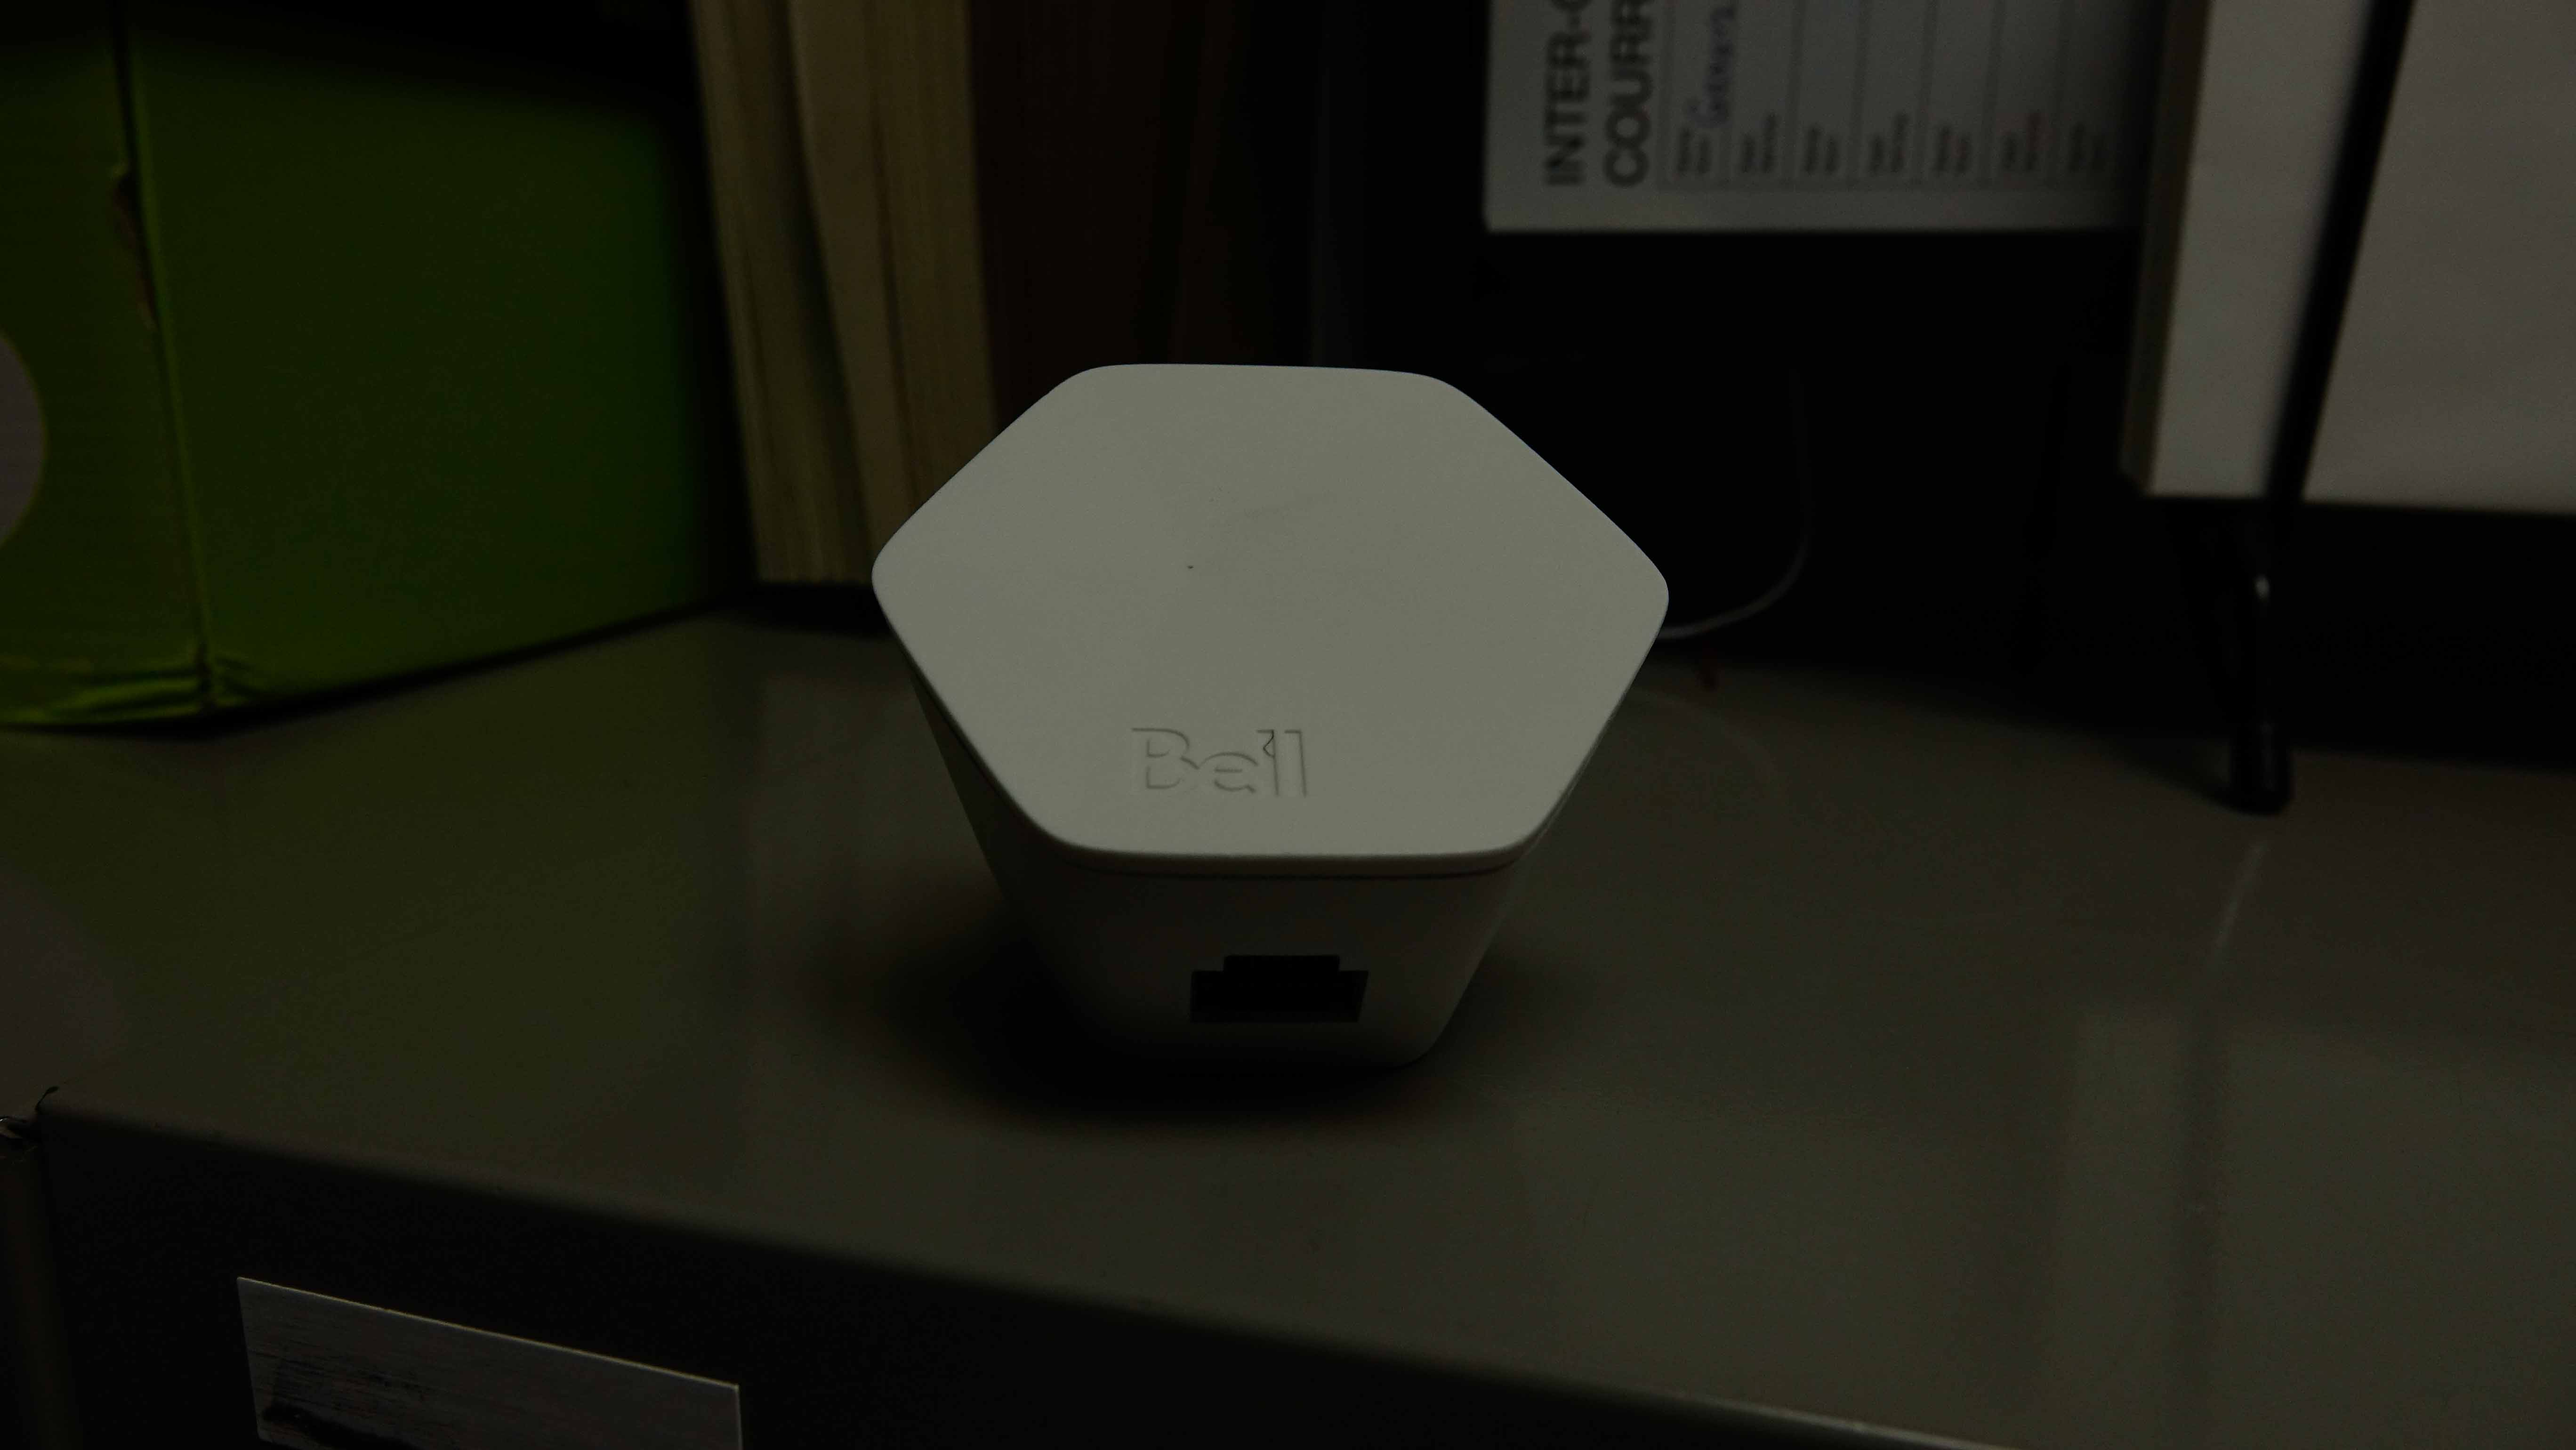pod: (856, 354, 1691, 1098)
